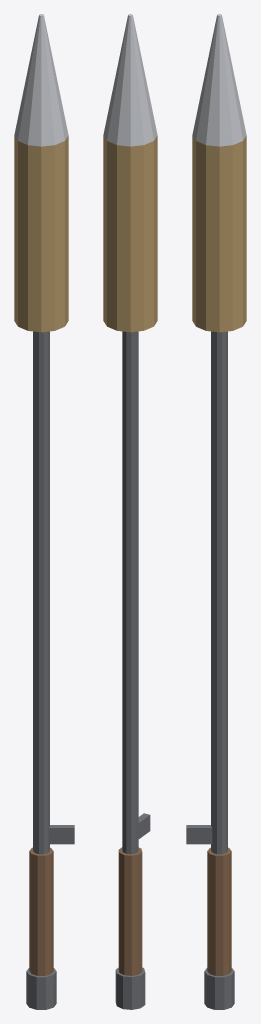
Rendered from lance_de_foudre.glb.
3 renders of one model, left to right at view 1: azimuth 90°, elevation 25°; view 2: azimuth 150°, elevation 25°; view 3: azimuth 270°, elevation 25°, orthographic.
Parts seen in each view (by area): view 1: lance_de_foudre; view 2: lance_de_foudre; view 3: lance_de_foudre.
Part boxes in pixels (box(x1,y1,x2,y2)): lance_de_foudre: box(14, 14, 74, 1009); lance_de_foudre: box(103, 14, 157, 1009); lance_de_foudre: box(186, 14, 246, 1009).
Size of the model in its own units: 0.09 by 1.81 by 0.1.
